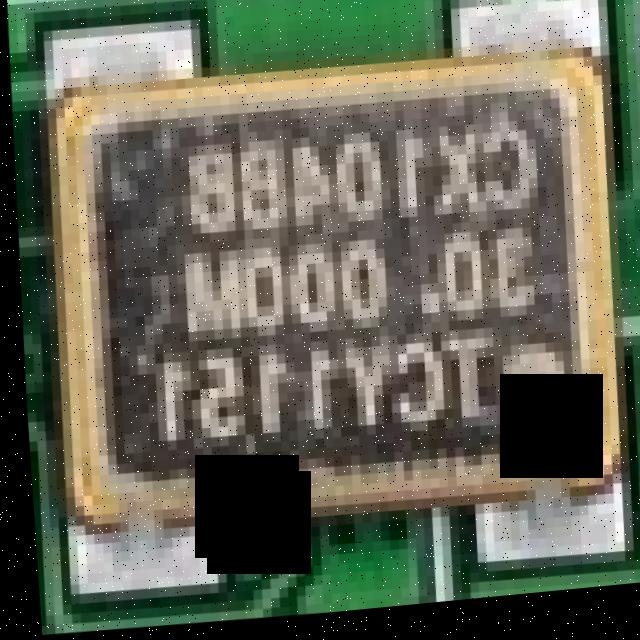clock Q1: (9, 4, 640, 611)
